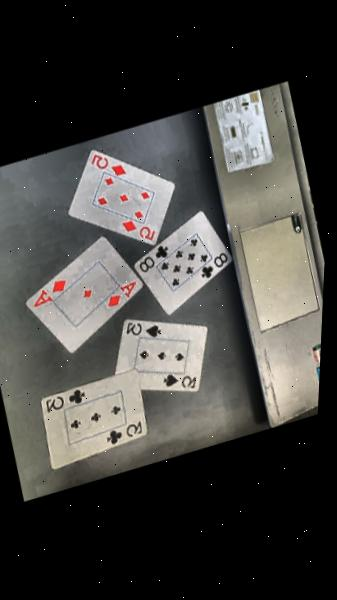3P: (120, 312, 162, 346), (158, 365, 198, 396)
3T: (100, 419, 143, 448), (41, 387, 86, 414)
5D: (85, 145, 126, 183), (117, 212, 158, 248)
8T: (133, 243, 171, 274), (196, 251, 230, 281)
AD: (26, 277, 70, 309), (100, 279, 140, 309)
